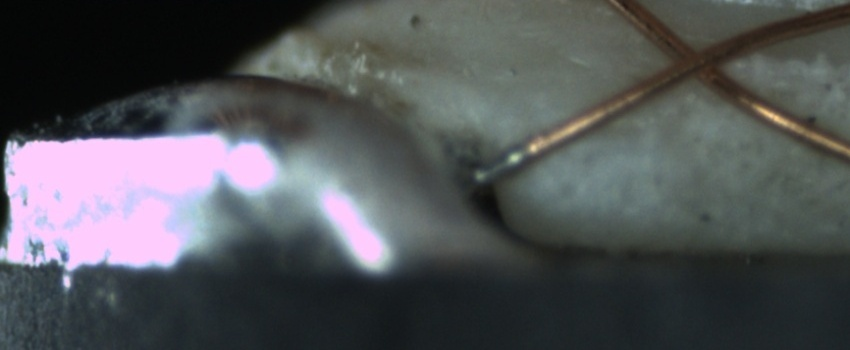CL: (653, 27, 742, 94)
DL: (560, 110, 653, 168)
TS: (468, 141, 531, 189)
TTCW: (468, 128, 549, 189)
